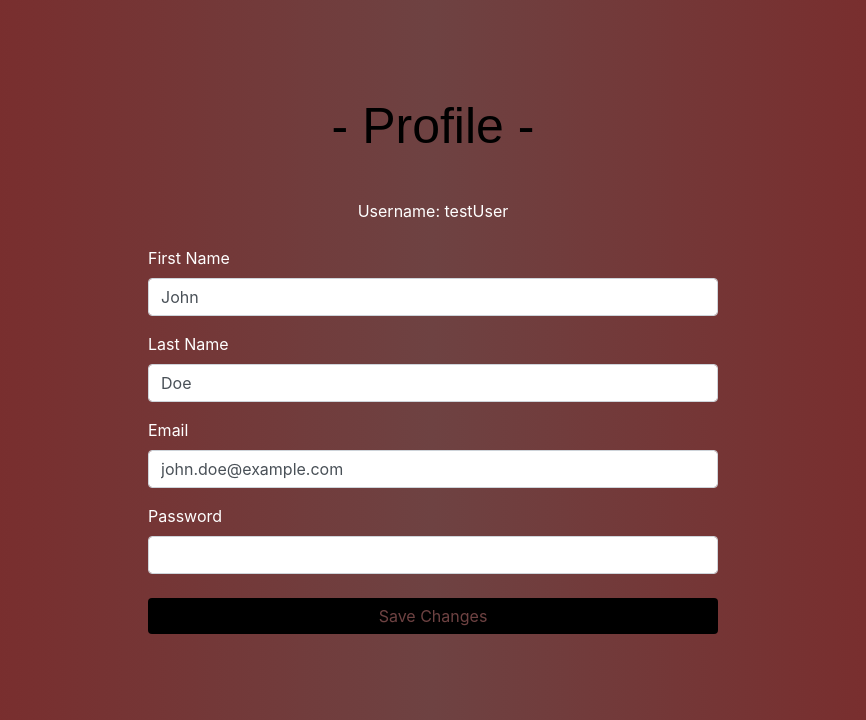
Scenario: Profile Component › handles form submission with errors
Clear the field labelled "First Name". click: (433, 297)
box: [148, 278, 718, 316]
Clear the field labelled "Last Name". click: (433, 383)
box: [148, 364, 718, 402]
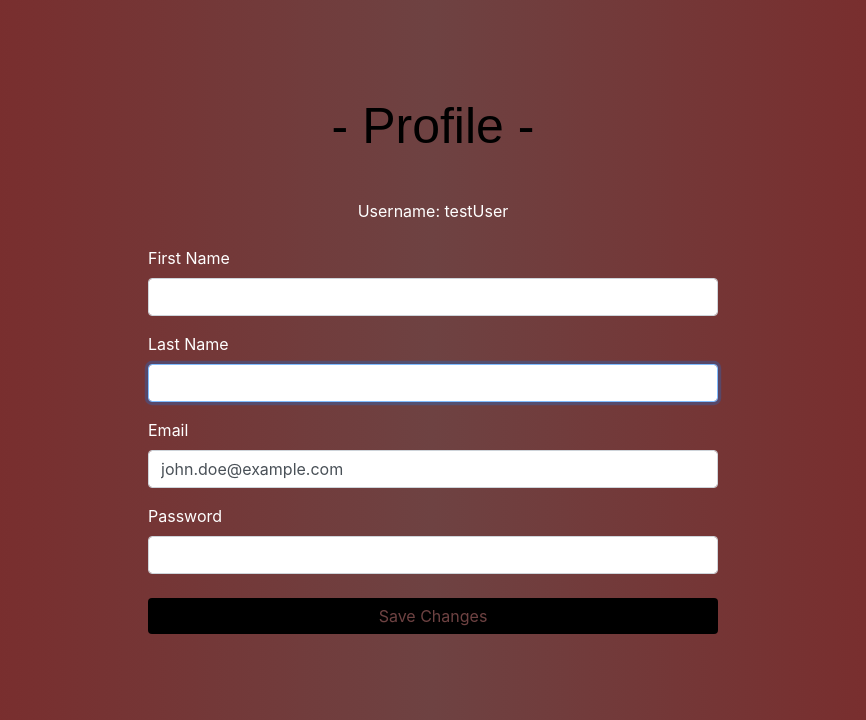
Clear the field labelled "Email". click: (433, 469)
box: [148, 450, 718, 488]
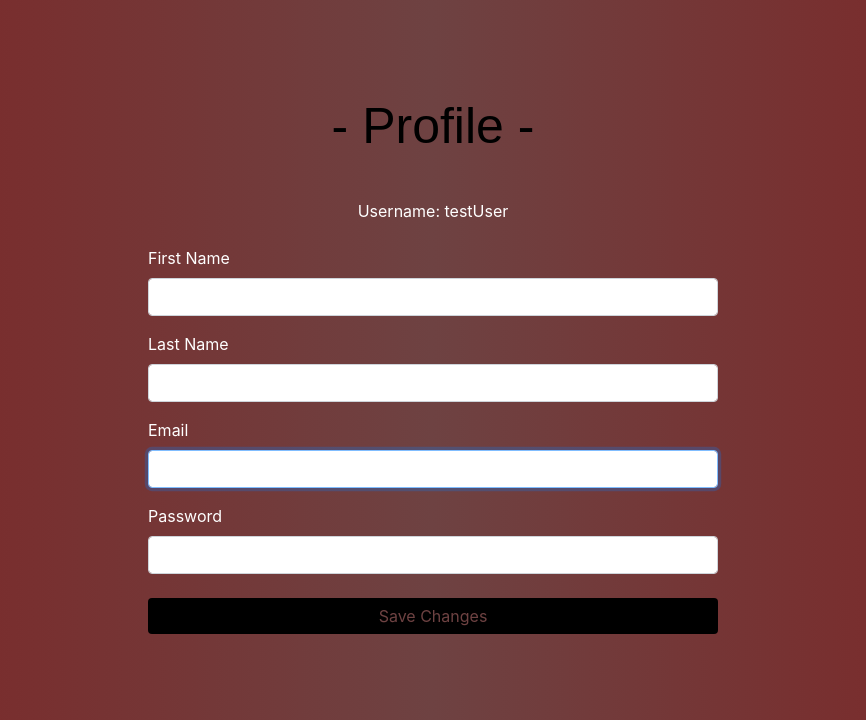
Type "NewJohn" into the field labelled "First Name". click: (433, 297)
box: [148, 278, 718, 316]
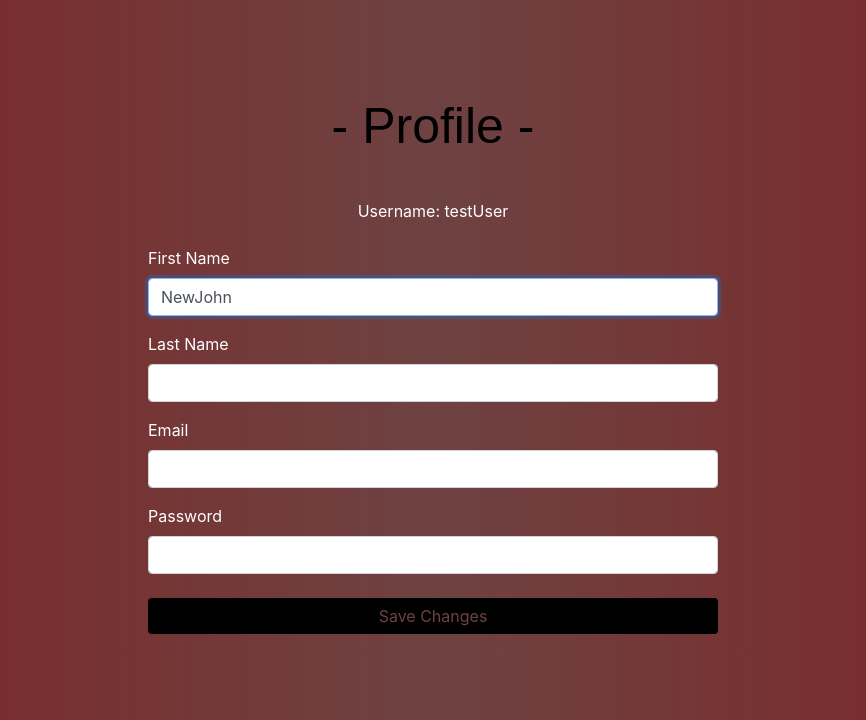
Type "NewDoe" into the field labelled "Last Name". click: (433, 383)
box: [148, 364, 718, 402]
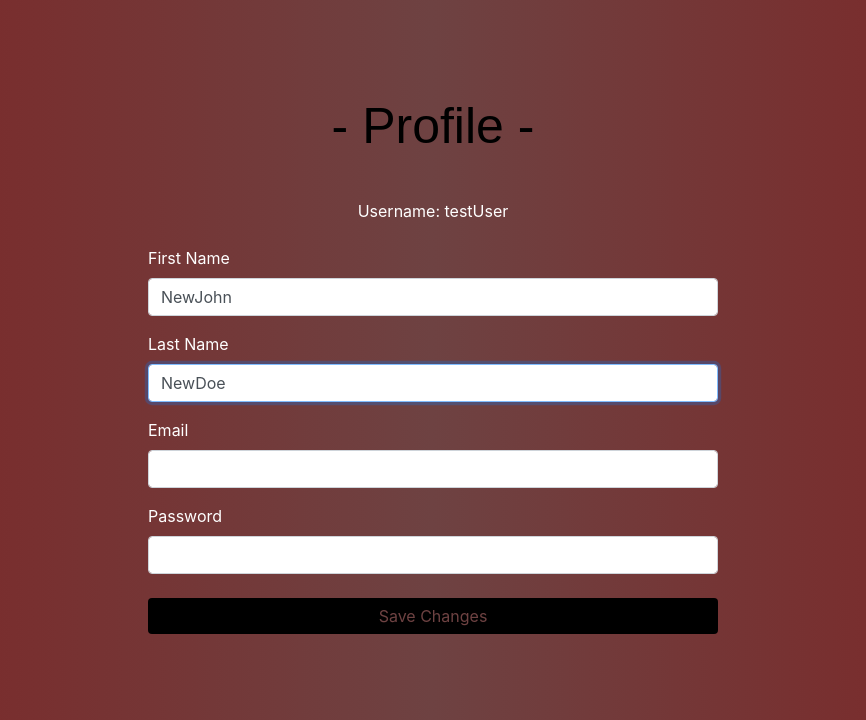
Type "new.john.doe@example.com" into the field labelled "Email". click: (433, 469)
box: [148, 450, 718, 488]
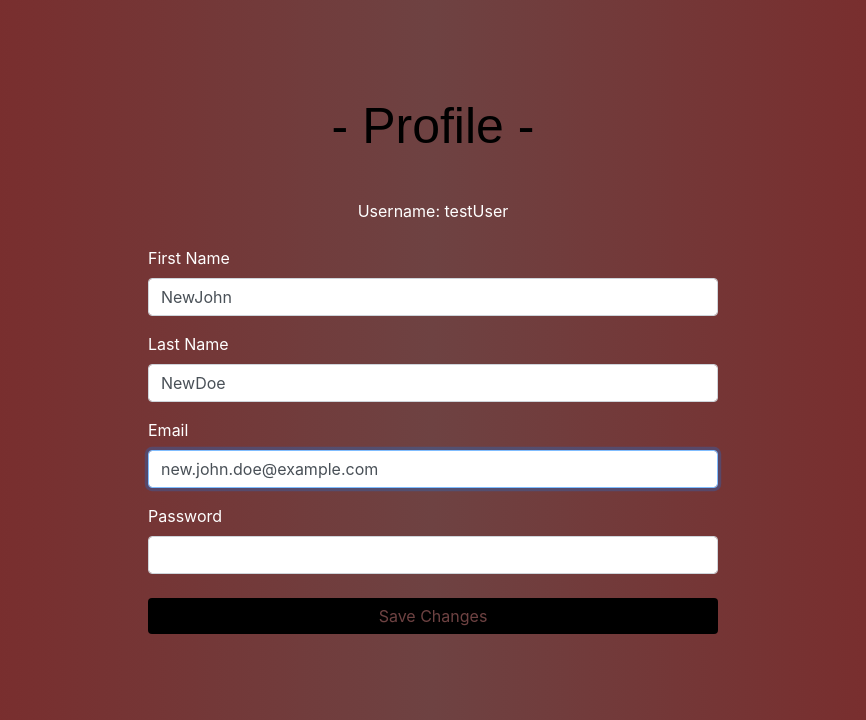
Click the button "Save Changes". click: (433, 616)
box: [148, 598, 718, 634]
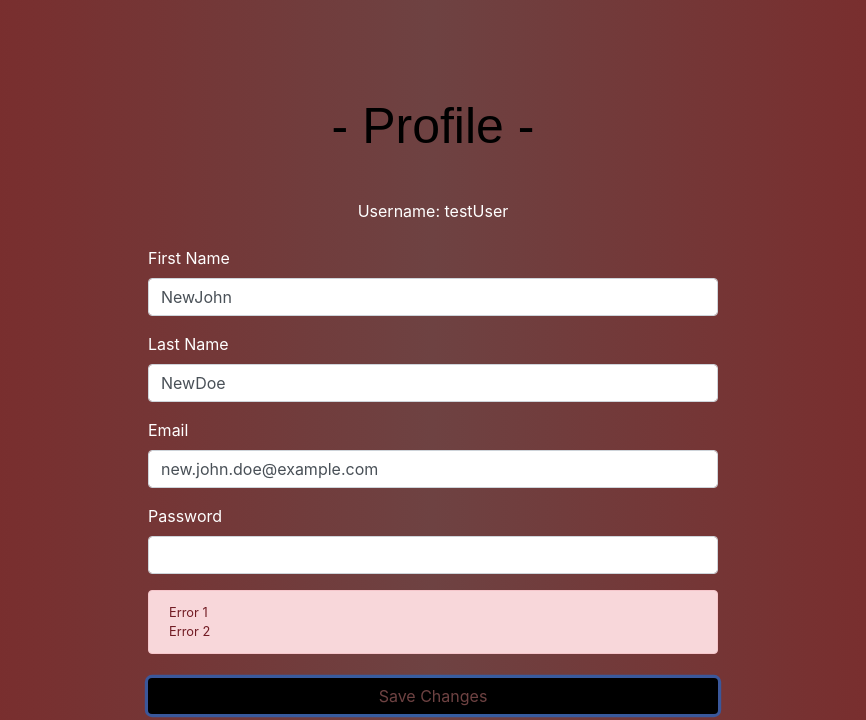
Expected: the password field labelled "Password" is empty, [148, 536, 718, 574]
Expected: the text "Error 1" is shown, [169, 605, 208, 620]
Expected: the text "Error 2" is shown, [169, 624, 210, 639]
